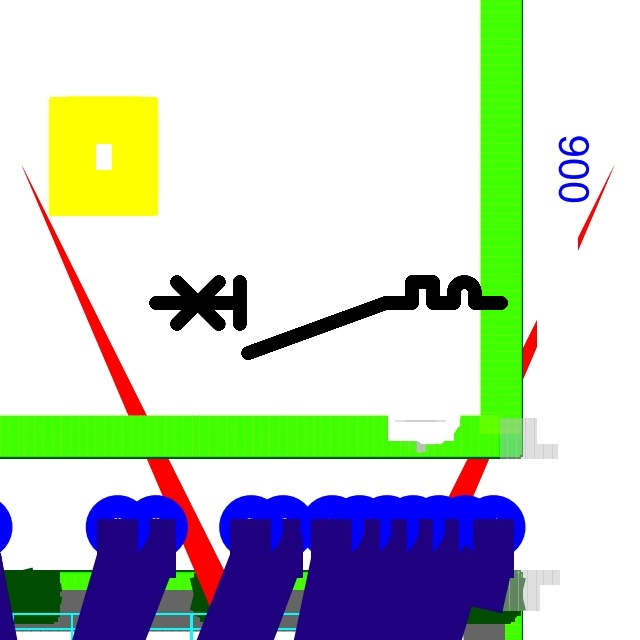interruptor_termomagnetico: (147, 273, 510, 362)
